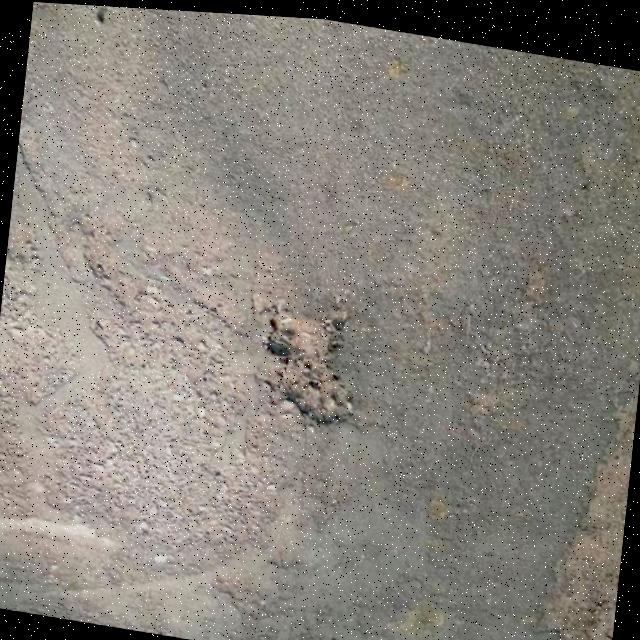Pothole: (248, 299, 358, 430)
